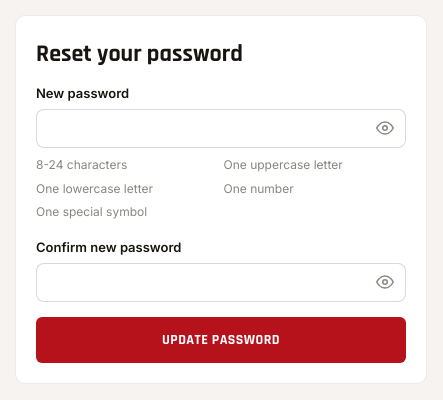
reset password page › submits the new password and shows the success state
Expected: the button "Update password" is shown, x1=36 y1=317 x2=406 y2=363
Step 1. Type "Passw0rd!x" into the 1st password field → (221, 128), box x1=36 y1=109 x2=406 y2=148
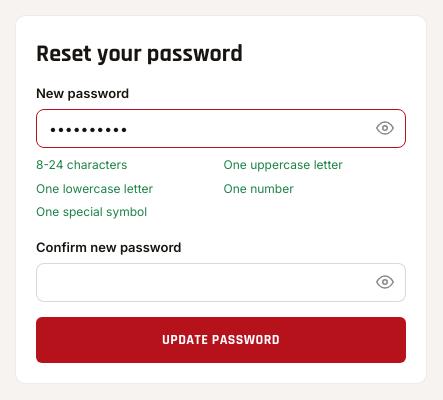
Step 2. Type "Passw0rd!x" into the password field below "Confirm new password" → (221, 282), box x1=36 y1=263 x2=406 y2=302
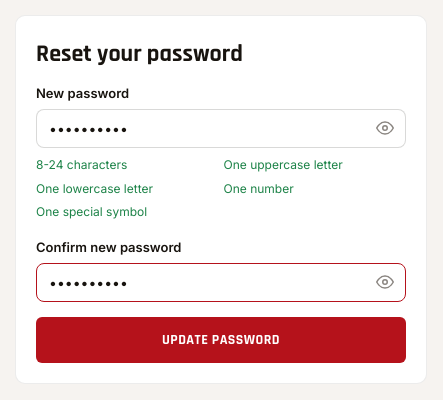
Step 3. Click the button "Update password" → click(221, 340), box x1=36 y1=317 x2=406 y2=363
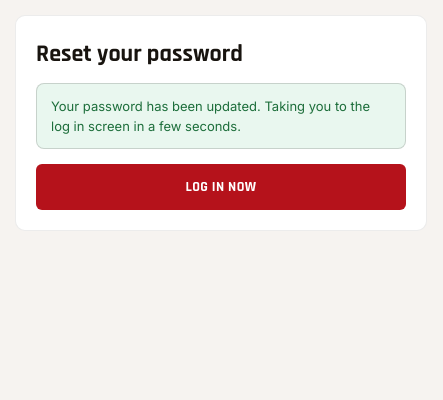
Expected: the text "password has been updated" is shown, x1=51 y1=98 x2=370 y2=134
Expected: the button "Log in now" is shown, x1=36 y1=164 x2=406 y2=210
